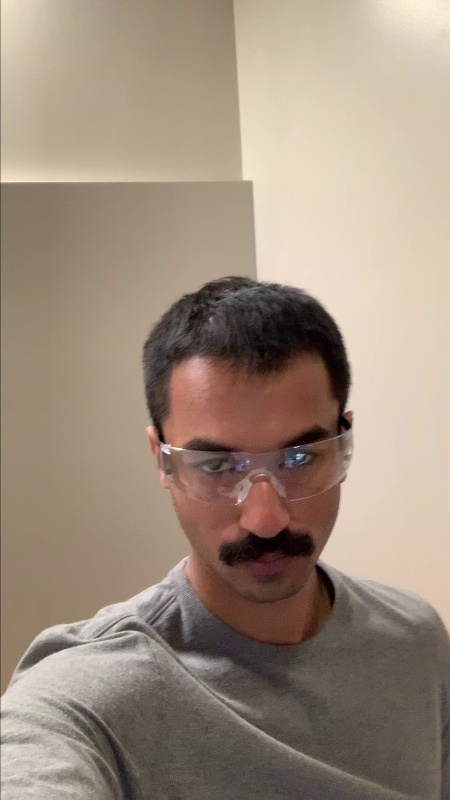glasses: (158, 437, 353, 502)
